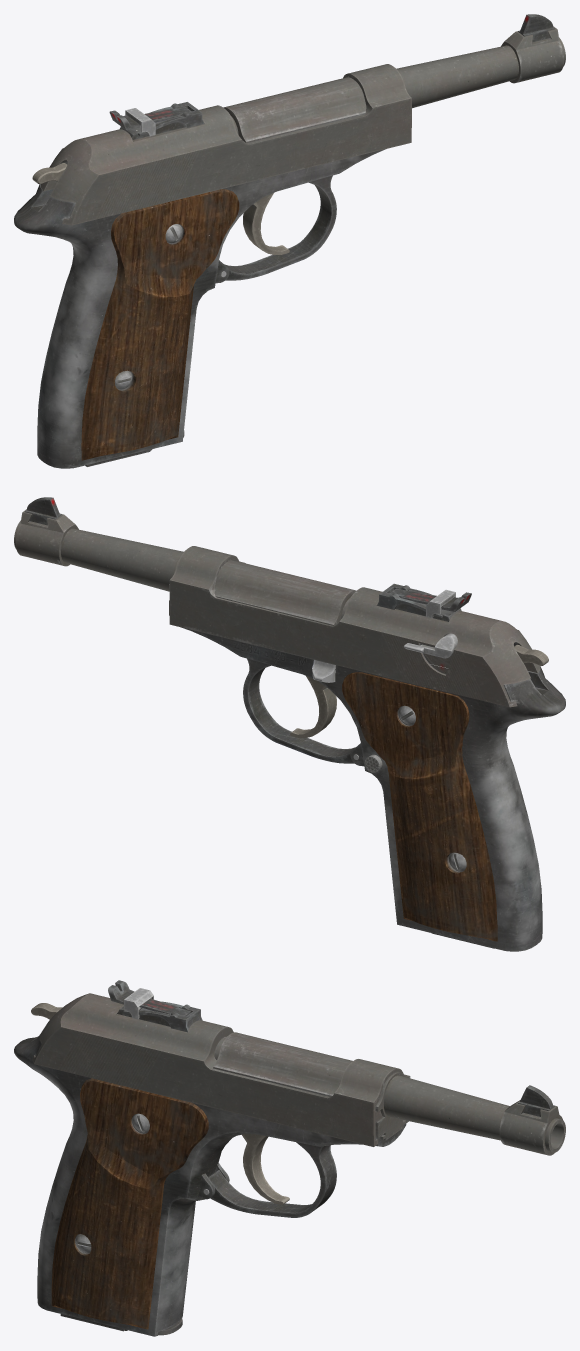
File: SM_Pistol.gltf
The picture shows the model from 3 angles, top to bottom: view 1: azimuth 30°, elevation 25°; view 2: azimuth 150°, elevation 25°; view 3: azimuth 330°, elevation 25°; orthographic projection.
Parts seen in each view (by area): view 1: SM_Pistol; view 2: SM_Pistol; view 3: SM_Pistol.
Boxes of the visible parts, bbox=[...] form: SM_Pistol: bbox=[14, 14, 565, 468]; SM_Pistol: bbox=[14, 497, 565, 951]; SM_Pistol: bbox=[14, 980, 565, 1336].
Bounding box in the file's own units: 0.3 × 0.1766 × 0.043.
1 material, 1 textured.
